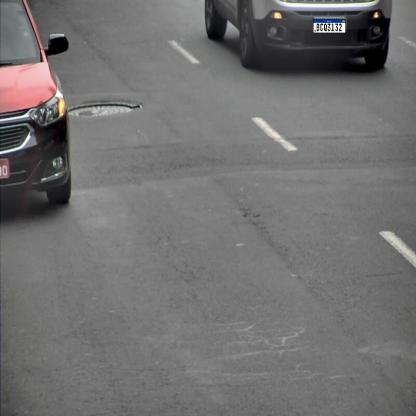PlacaM: (313, 19, 346, 33)
